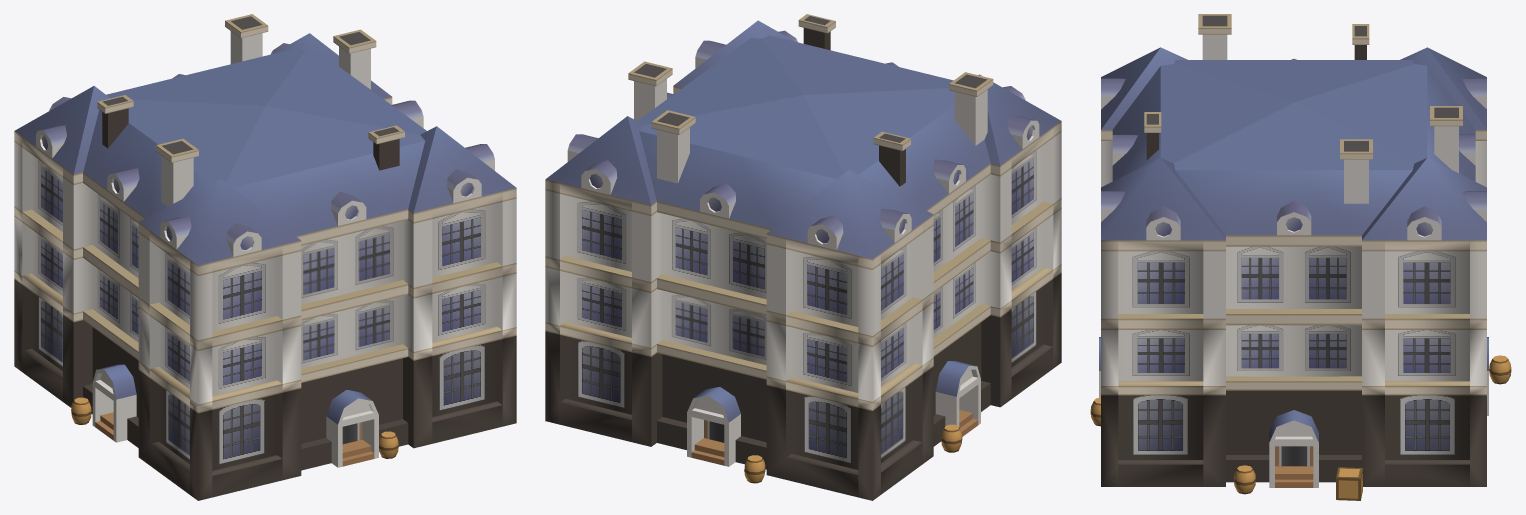
Rendered from Bat_Auberge.fbx.
3 views of the same model, side by side, from view 1: azimuth 30°, elevation 25°; view 2: azimuth 150°, elevation 25°; view 3: azimuth 270°, elevation 25° (orthographic). The views are drawn at different scales.
Parts seen in each view (by area): view 1: Auberge; view 2: Auberge; view 3: Auberge.
Part boxes in pixels (x1=…): Auberge: x1=14, y1=14, x2=516, y2=500; Auberge: x1=545, y1=14, x2=1061, y2=500; Auberge: x1=1090, y1=14, x2=1511, y2=500.
Bounding box in the file's own units: 35.48 × 28.69 × 33.99.
